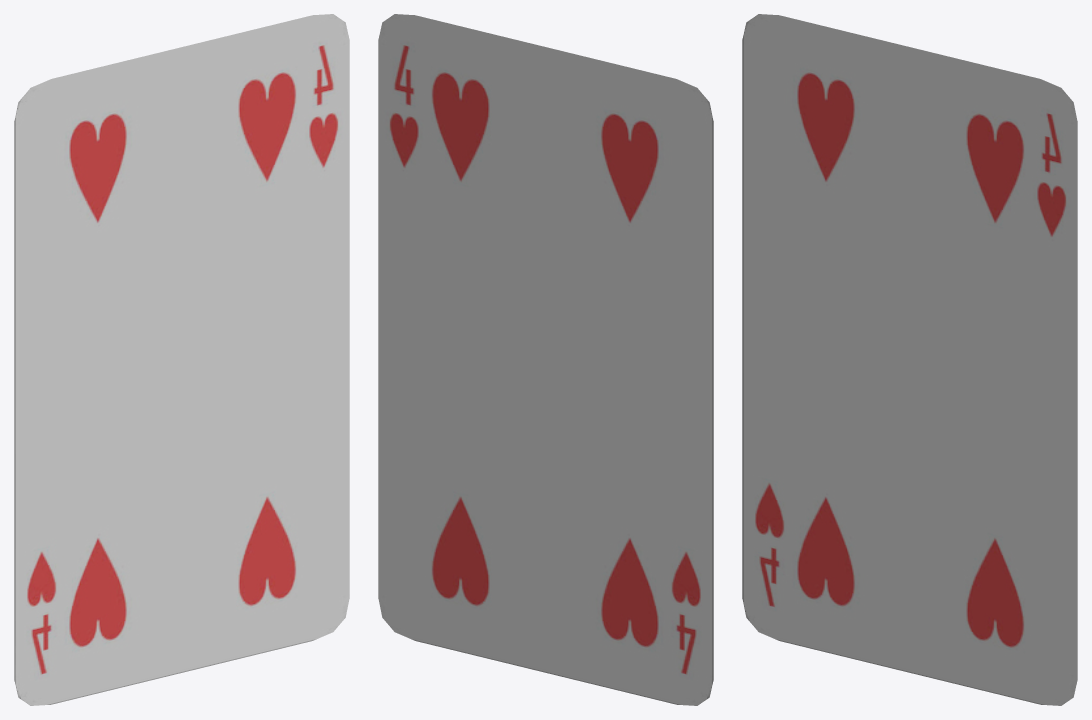
Rendered from 4_hearts.glb.
3 renders of one model, left to right at view 1: azimuth 30°, elevation 25°; view 2: azimuth 150°, elevation 25°; view 3: azimuth 330°, elevation 25°, orthographic.
Visible parts, largest first — view 1: Four of Hearts_4_0; view 2: Four of Hearts_4_0; view 3: Four of Hearts_4_0.
Boxes of the visible parts, left/top/right/bottom form: Four of Hearts_4_0: left=14, top=14, right=349, bottom=705; Four of Hearts_4_0: left=378, top=14, right=713, bottom=705; Four of Hearts_4_0: left=742, top=14, right=1077, bottom=705.
Size of the model in its own units: 0.2527 by 0.4503 by 2.78e-17.
Materials: 1 (1 with a texture image).
